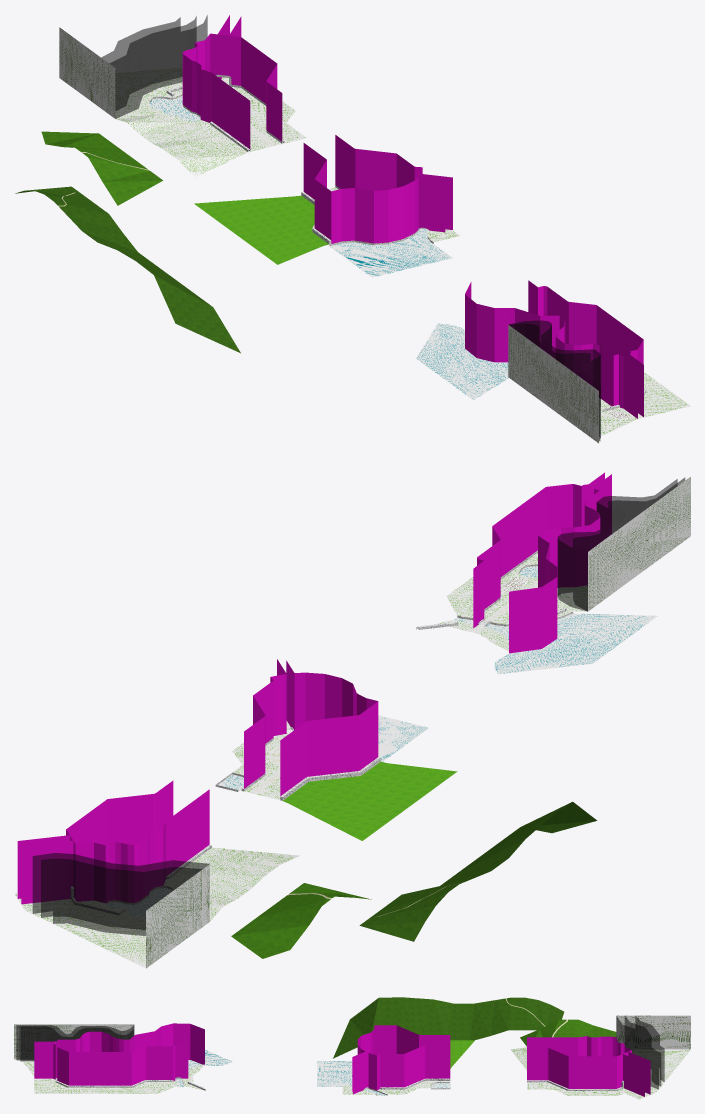
File: wartwood_env.obj
3 renders of one model, top to bottom at view 1: azimuth 30°, elevation 25°; view 2: azimuth 150°, elevation 25°; view 3: azimuth 270°, elevation 25°, orthographic. The views are drawn at different scales.
Visible parts, largest first — view 1: SketchUp.030_ID260.005, SketchUp.008_ID89.006, SketchUp.020_ID188.006, SketchUp.031_ID266.006, SketchUp.050_ID420.001, SketchUp.041_ID349.006, SketchUp.037_ID314.005, SketchUp.025_ID226.001, SketchUp.047_ID393, SketchUp.046_ID387, SketchUp.009_ID97.006, SketchUp.029_ID254.001 (+10 smaller); view 2: SketchUp.030_ID260.005, SketchUp.008_ID89.006, SketchUp.031_ID266.006, SketchUp.020_ID188.006, SketchUp.046_ID387, SketchUp.041_ID349.006, SketchUp.025_ID226.001, SketchUp.045_ID381, SketchUp.037_ID314.005, SketchUp.050_ID420.001, SketchUp.029_ID254.001, SketchUp.036_ID306.006 (+8 smaller); view 3: SketchUp.050_ID420.001, SketchUp.030_ID260.005, SketchUp.025_ID226.001, SketchUp.009_ID97.006, SketchUp.020_ID188.006, SketchUp.044_ID373.002, SketchUp.037_ID314.005, SketchUp.008_ID89.006, SketchUp.036_ID306.006, SketchUp.031_ID266.006, SketchUp.023_ID210.006, SketchUp.046_ID387 (+12 smaller).
Boxes of the visible parts, x1=… form: SketchUp.030_ID260.005: x1=182, y1=15, x2=282, y2=149; SketchUp.008_ID89.006: x1=303, y1=143, x2=445, y2=243; SketchUp.020_ID188.006: x1=465, y1=282, x2=637, y2=418; SketchUp.031_ID266.006: x1=115, y1=68, x2=270, y2=176; SketchUp.050_ID420.001: x1=15, y1=186, x2=240, y2=353; SketchUp.041_ID349.006: x1=194, y1=195, x2=328, y2=264; SketchUp.037_ID314.005: x1=508, y1=325, x2=598, y2=443; SketchUp.025_ID226.001: x1=528, y1=280, x2=643, y2=417; SketchUp.047_ID393: x1=115, y1=15, x2=207, y2=118; SketchUp.046_ID387: x1=109, y1=16, x2=196, y2=110; SketchUp.009_ID97.006: x1=335, y1=135, x2=452, y2=229; SketchUp.029_ID254.001: x1=416, y1=323, x2=508, y2=400; SketchUp.030_ID260.005: x1=17, y1=780, x2=209, y2=904; SketchUp.008_ID89.006: x1=280, y1=660, x2=378, y2=795; SketchUp.031_ID266.006: x1=20, y1=847, x2=299, y2=968; SketchUp.020_ID188.006: x1=509, y1=474, x2=611, y2=653; SketchUp.046_ID387: x1=41, y1=858, x2=202, y2=929; SketchUp.041_ID349.006: x1=283, y1=761, x2=457, y2=840; SketchUp.025_ID226.001: x1=473, y1=472, x2=604, y2=628; SketchUp.045_ID381: x1=53, y1=865, x2=192, y2=935; SketchUp.037_ID314.005: x1=588, y1=477, x2=690, y2=611; SketchUp.050_ID420.001: x1=359, y1=801, x2=597, y2=941; SketchUp.029_ID254.001: x1=453, y1=613, x2=657, y2=674; SketchUp.036_ID306.006: x1=557, y1=477, x2=685, y2=611; SketchUp.050_ID420.001: x1=333, y1=997, x2=564, y2=1058; SketchUp.030_ID260.005: x1=527, y1=1036, x2=650, y2=1096; SketchUp.025_ID226.001: x1=34, y1=1043, x2=188, y2=1085; SketchUp.009_ID97.006: x1=353, y1=1045, x2=450, y2=1094; SketchUp.020_ID188.006: x1=34, y1=1023, x2=204, y2=1064; SketchUp.044_ID373.002: x1=616, y1=1015, x2=690, y2=1049; SketchUp.037_ID314.005: x1=14, y1=1024, x2=133, y2=1059; SketchUp.008_ID89.006: x1=352, y1=1025, x2=450, y2=1091; SketchUp.036_ID306.006: x1=16, y1=1025, x2=134, y2=1061; SketchUp.031_ID266.006: x1=511, y1=1047, x2=690, y2=1095; SketchUp.023_ID210.006: x1=34, y1=1078, x2=177, y2=1093; SketchUp.046_ID387: x1=624, y1=1016, x2=661, y2=1086.
Size of the model in its own units: 144 by 51.03 by 430.
11 materials, 7 textured.
